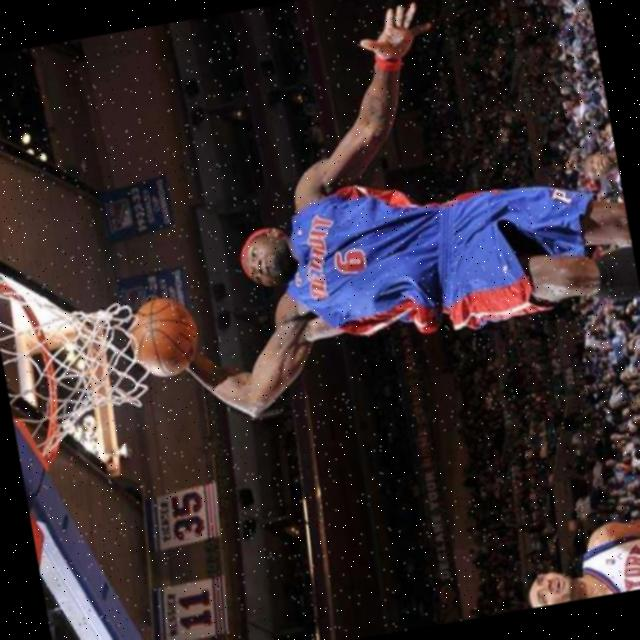ball: (125, 290, 205, 380)
